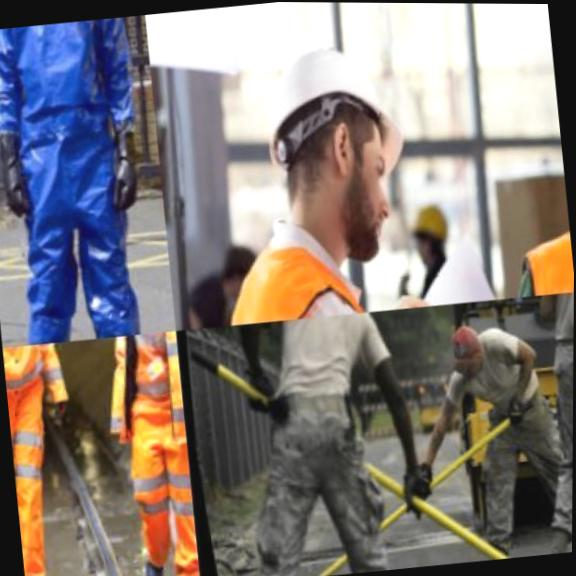safety_vest: (0, 13, 178, 347), (166, 184, 400, 330), (77, 330, 190, 477), (1, 340, 88, 433)
